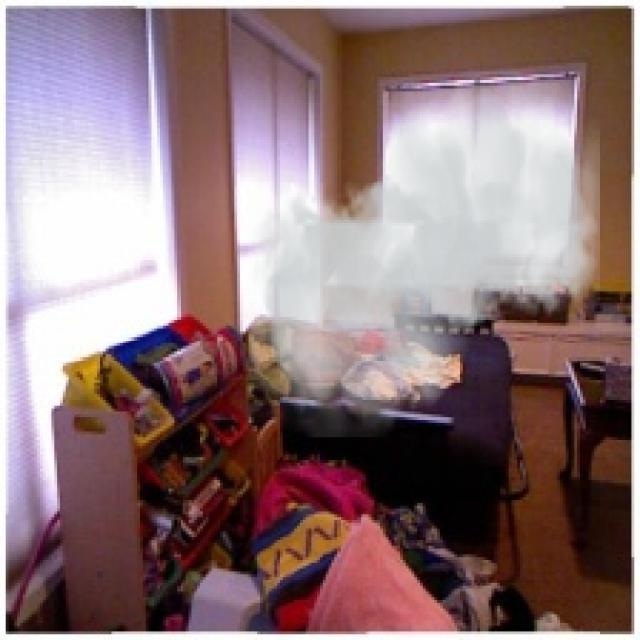Smoke: (248, 72, 600, 437)
